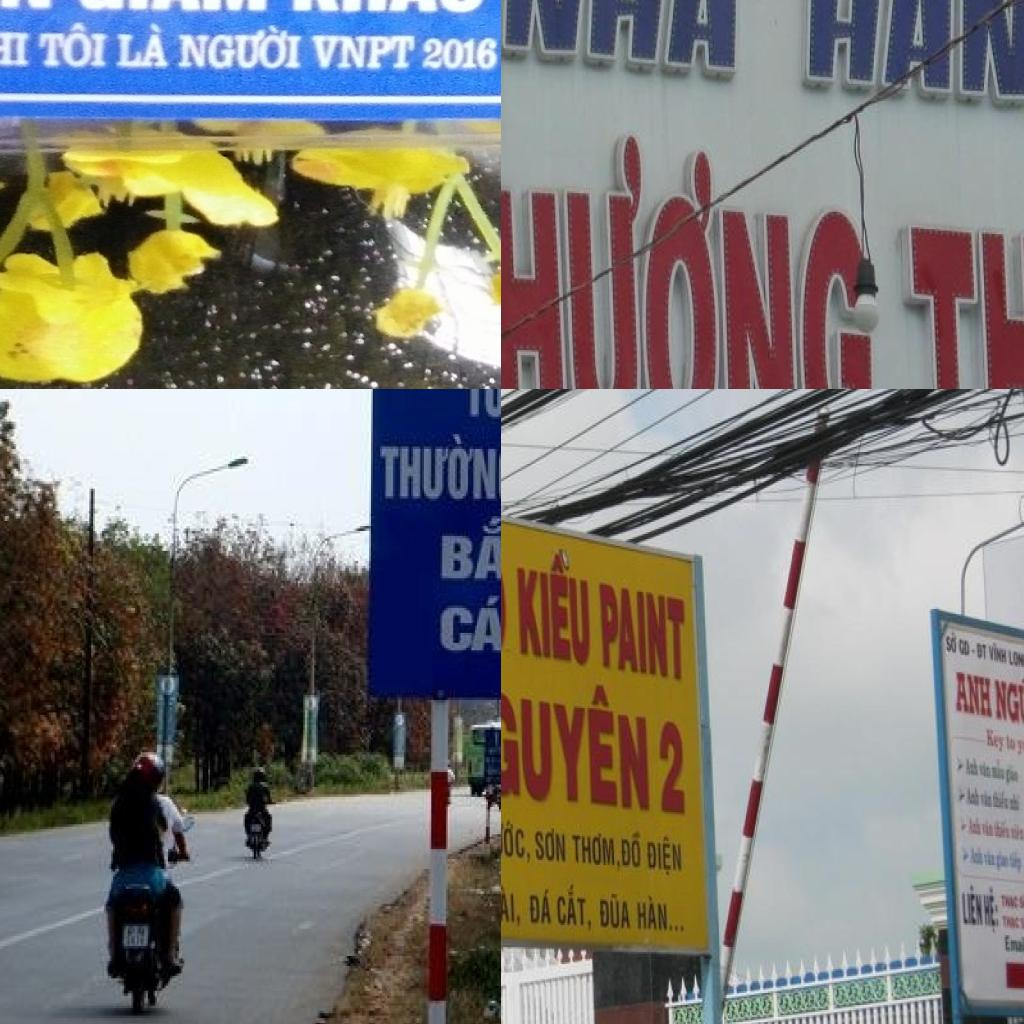text: (501, 123, 879, 389), (891, 138, 1024, 389), (798, 0, 1024, 114), (501, 663, 650, 810), (501, 0, 746, 80), (514, 542, 594, 669), (376, 434, 501, 508), (598, 582, 688, 682), (172, 23, 306, 73), (308, 27, 422, 74), (438, 513, 501, 585), (437, 595, 501, 660), (35, 20, 112, 71), (111, 19, 175, 72), (656, 718, 688, 816), (570, 826, 624, 875), (635, 894, 691, 935), (952, 670, 993, 718), (556, 884, 594, 935), (645, 834, 684, 882), (501, 815, 534, 866), (532, 824, 567, 865), (993, 676, 1021, 724), (598, 892, 632, 930), (0, 28, 33, 67), (961, 882, 985, 930), (501, 882, 523, 928), (620, 828, 644, 870), (530, 884, 554, 926), (982, 884, 1000, 938), (957, 640, 988, 660), (986, 640, 1008, 667), (986, 725, 1004, 756), (990, 785, 1008, 812), (1007, 850, 1023, 877), (993, 819, 1012, 841), (967, 844, 984, 868), (994, 850, 1011, 874), (1005, 763, 1021, 788), (1001, 913, 1021, 933), (965, 754, 980, 780), (967, 814, 983, 838), (1007, 650, 1024, 672), (989, 760, 1006, 782), (999, 894, 1020, 911), (965, 786, 981, 808), (946, 631, 958, 657), (980, 819, 996, 838), (1004, 730, 1018, 751), (978, 761, 992, 781), (1008, 792, 1022, 812), (980, 790, 994, 809), (1011, 822, 1024, 842), (984, 850, 997, 868)
